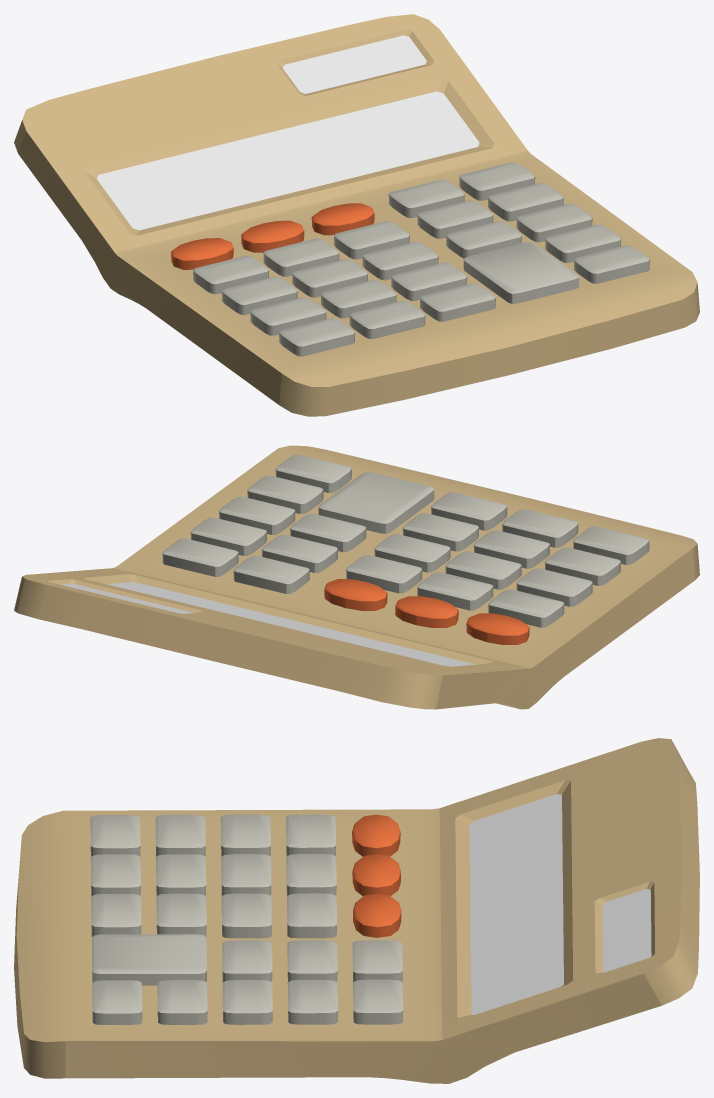
The model's file is calc_cream.fbx.
The picture shows the model from 3 angles, top to bottom: view 1: azimuth 30°, elevation 25°; view 2: azimuth 150°, elevation 25°; view 3: azimuth 270°, elevation 25°; orthographic projection. The views are drawn at different scales.
Visible parts, largest first — view 1: calculator; view 2: calculator; view 3: calculator.
Part boxes in pixels (x1=…): calculator: x1=14, y1=14, x2=699, y2=416; calculator: x1=14, y1=445, x2=699, y2=709; calculator: x1=14, y1=738, x2=699, y2=1083.
Bounding box in the file's own units: 1219 × 296 × 1509.
